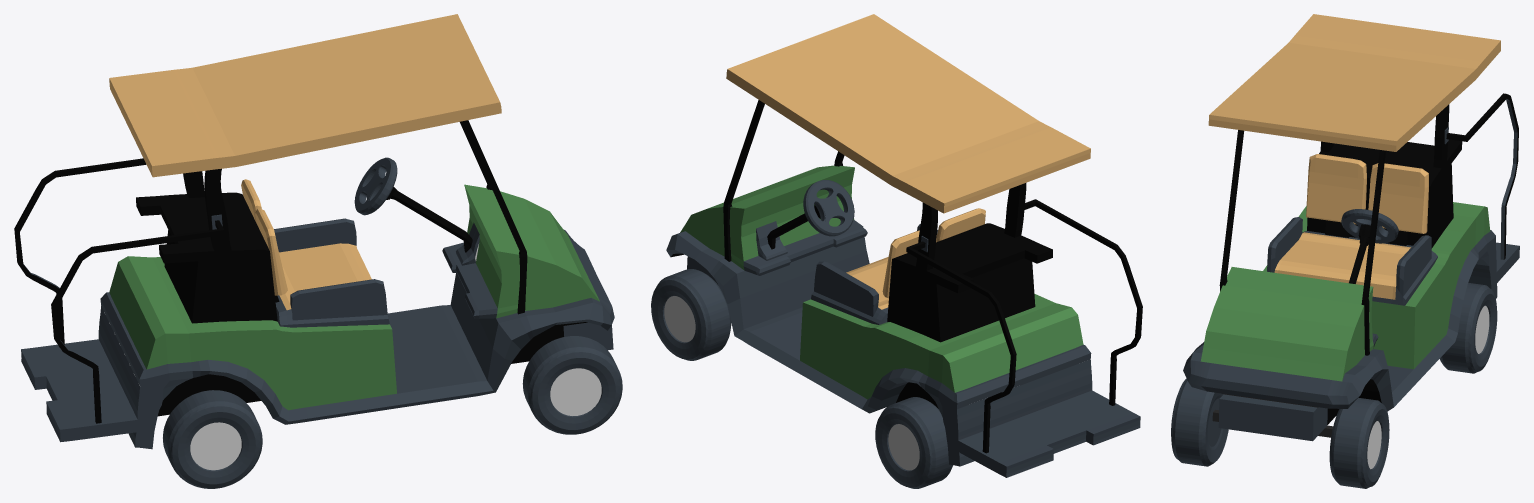
File: carts.fbx
3 renders of one model, left to right at view 1: azimuth 30°, elevation 25°; view 2: azimuth 150°, elevation 25°; view 3: azimuth 270°, elevation 25°, orthographic. The views are drawn at different scales.
Parts seen in each view (by area): view 1: Cube.001; view 2: Cube.001; view 3: Cube.001.
Part boxes in pixels (x1=…): Cube.001: x1=14, y1=14, x2=622, y2=488; Cube.001: x1=651, y1=14, x2=1142, y2=488; Cube.001: x1=1171, y1=14, x2=1519, y2=488.
Bounding box in the file's own units: 9.27 × 6.06 × 5.69.
